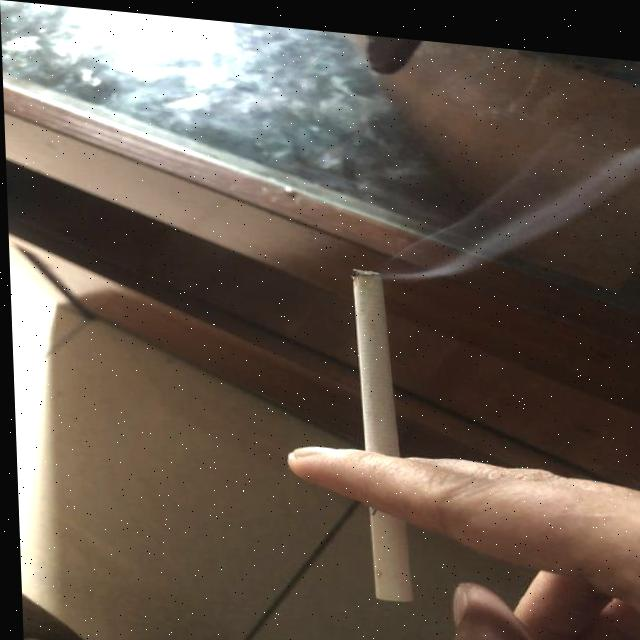cigarette: (347, 261, 410, 597)
